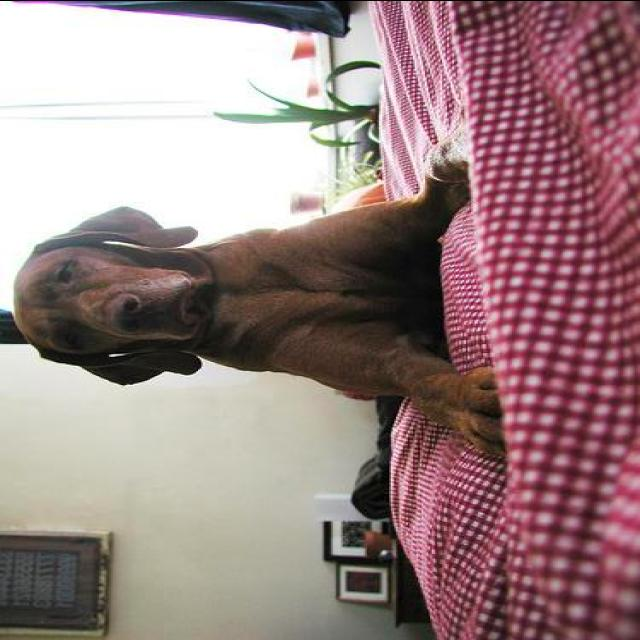vizsla: (10, 118, 512, 464)
